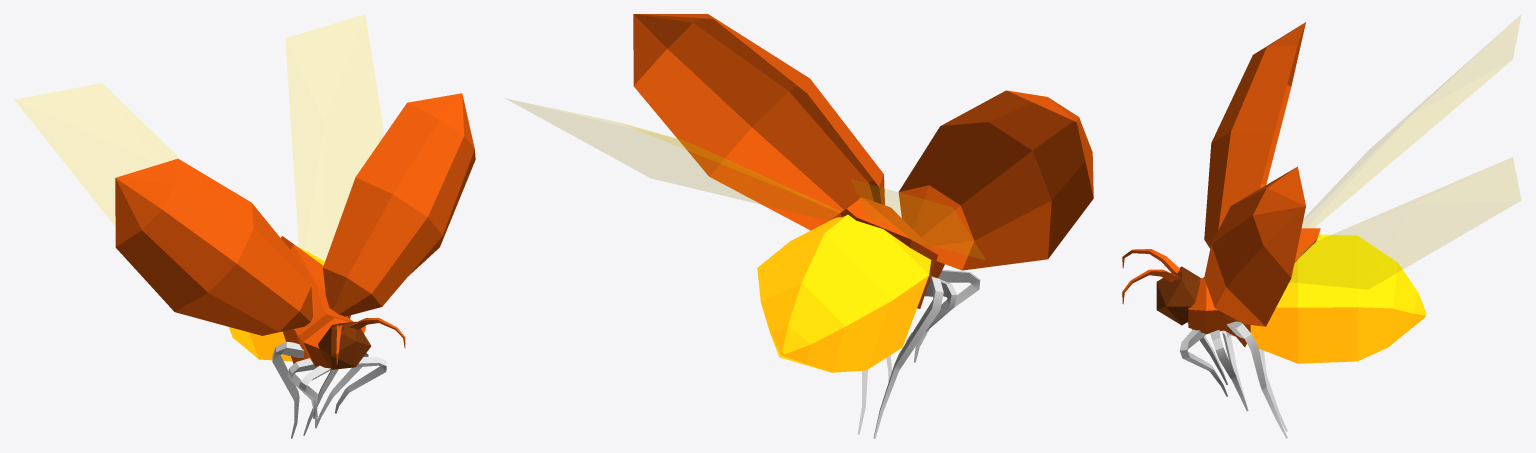
The model's file is firefly.dae.
3 renders of one model, left to right at view 1: azimuth 30°, elevation 25°; view 2: azimuth 150°, elevation 25°; view 3: azimuth 270°, elevation 25°, orthographic. The views are drawn at different scales.
Visible parts, largest first — view 1: shield, wing, torso, Polygon (×2), head, Polygon.2, bulb, Polygon.1; view 2: shield, bulb, wing, torso, Polygon.2, Polygon, Polygon.1; view 3: shield, wing, bulb, torso, Polygon (×2), head, Polygon.2, Polygon.1.
Part boxes in pixels (x1,y1,x2,y2): shield: (115, 93, 475, 335); wing: (15, 14, 383, 264); torso: (281, 236, 365, 368); Polygon (×2): (299, 318, 405, 418); head: (318, 321, 370, 369); Polygon.2: (272, 341, 338, 438); bulb: (229, 246, 324, 361); Polygon.1: (287, 353, 368, 428); shield: (633, 14, 1093, 270); bulb: (757, 215, 931, 372); wing: (507, 99, 985, 259); torso: (831, 197, 944, 308); Polygon.2: (857, 276, 943, 438); Polygon: (913, 269, 980, 362); Polygon.1: (886, 279, 956, 382); shield: (1204, 22, 1305, 326); wing: (1290, 15, 1520, 288); bulb: (1250, 234, 1426, 363); torso: (1188, 228, 1320, 347); Polygon (×2): (1122, 249, 1227, 396); head: (1156, 266, 1201, 325); Polygon.2: (1222, 321, 1287, 438); Polygon.1: (1210, 329, 1248, 411).
Bounding box in the file's own units: 74.53 × 59.89 × 65.74.
